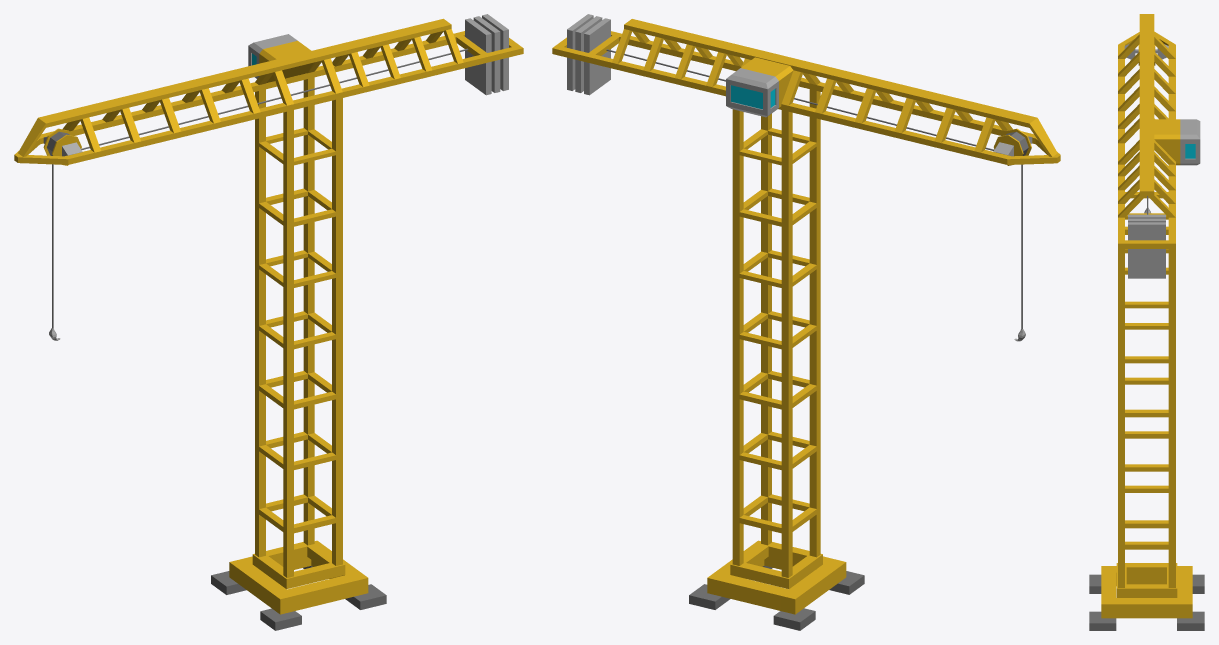
File: Crane.fbx
3 renders of one model, left to right at view 1: azimuth 30°, elevation 25°; view 2: azimuth 150°, elevation 25°; view 3: azimuth 270°, elevation 25°, orthographic. The views are drawn at different scales.
Visible parts, largest first — view 1: Crane; view 2: Crane; view 3: Crane.
Part boxes in pixels (box(x1,y1,x2,y2)): Crane: box(14, 14, 523, 630); Crane: box(552, 14, 1060, 630); Crane: box(1089, 14, 1204, 630).
Size of the model in its own units: 33.53 by 34.97 by 7.61.
